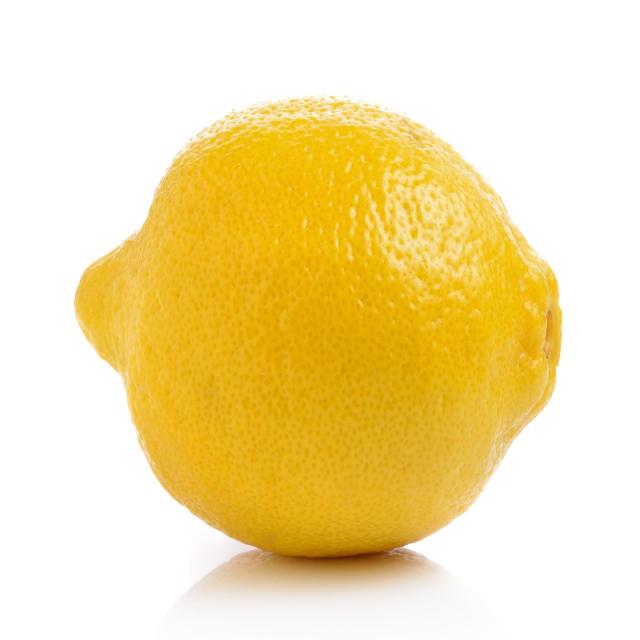lemon: (72, 89, 565, 567)
